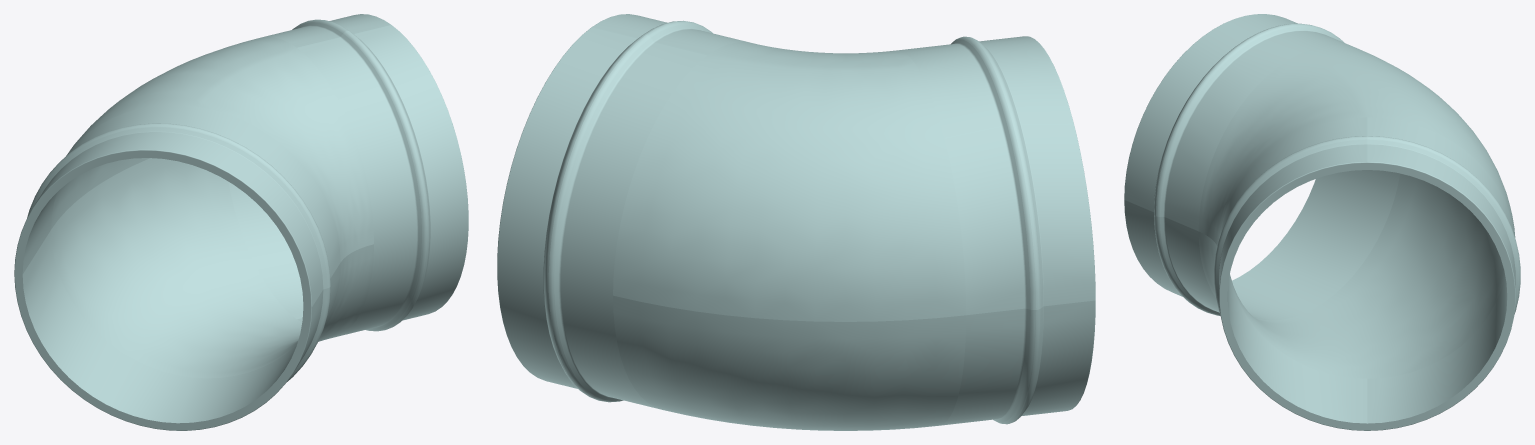
3 views of the same model, side by side, from view 1: azimuth 30°, elevation 25°; view 2: azimuth 150°, elevation 25°; view 3: azimuth 270°, elevation 25° (orthographic). The views are drawn at different scales.
Size of the model in its own units: 303 by 211 by 273.
